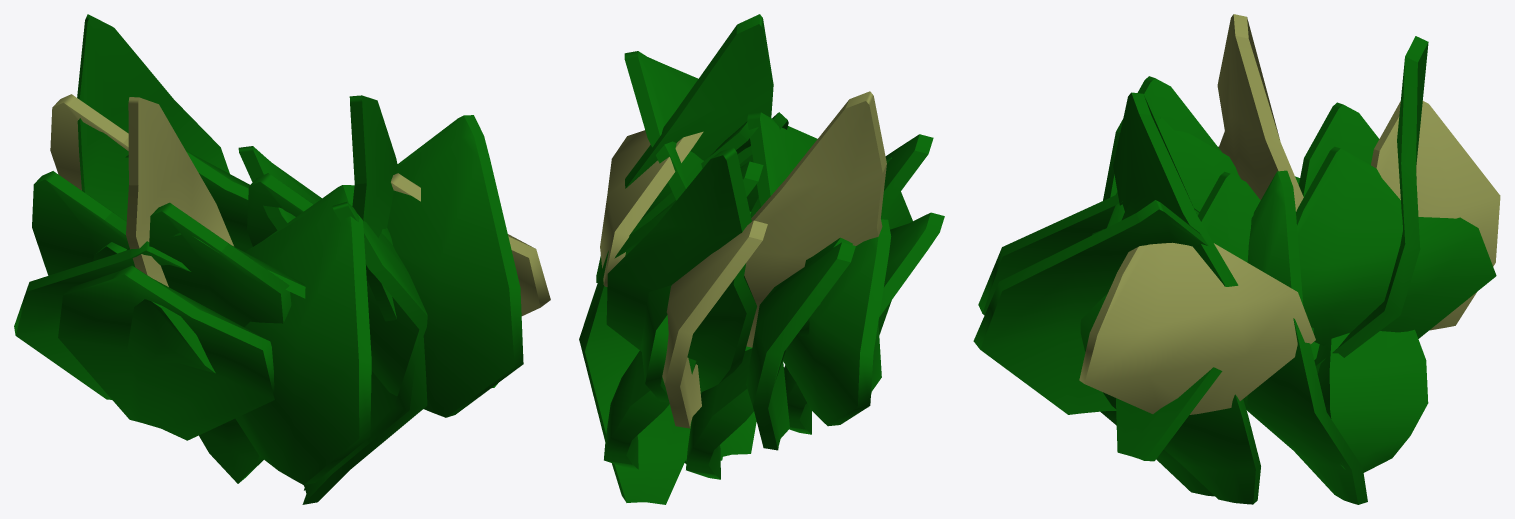
The model's file is tree_leaves_1.fbx.
The picture shows the model from 3 angles, left to right: view 1: azimuth 30°, elevation 25°; view 2: azimuth 150°, elevation 25°; view 3: azimuth 270°, elevation 25°; orthographic projection. The views are drawn at different scales.
Visible parts, largest first — view 1: polySurface421; view 2: polySurface421; view 3: polySurface421.
Part boxes in pixels (x1=…): polySurface421: x1=14, y1=14, x2=550, y2=504; polySurface421: x1=579, y1=14, x2=944, y2=504; polySurface421: x1=973, y1=14, x2=1500, y2=504.
Bounding box in the file's own units: 1.07 × 1.11 × 1.3.
